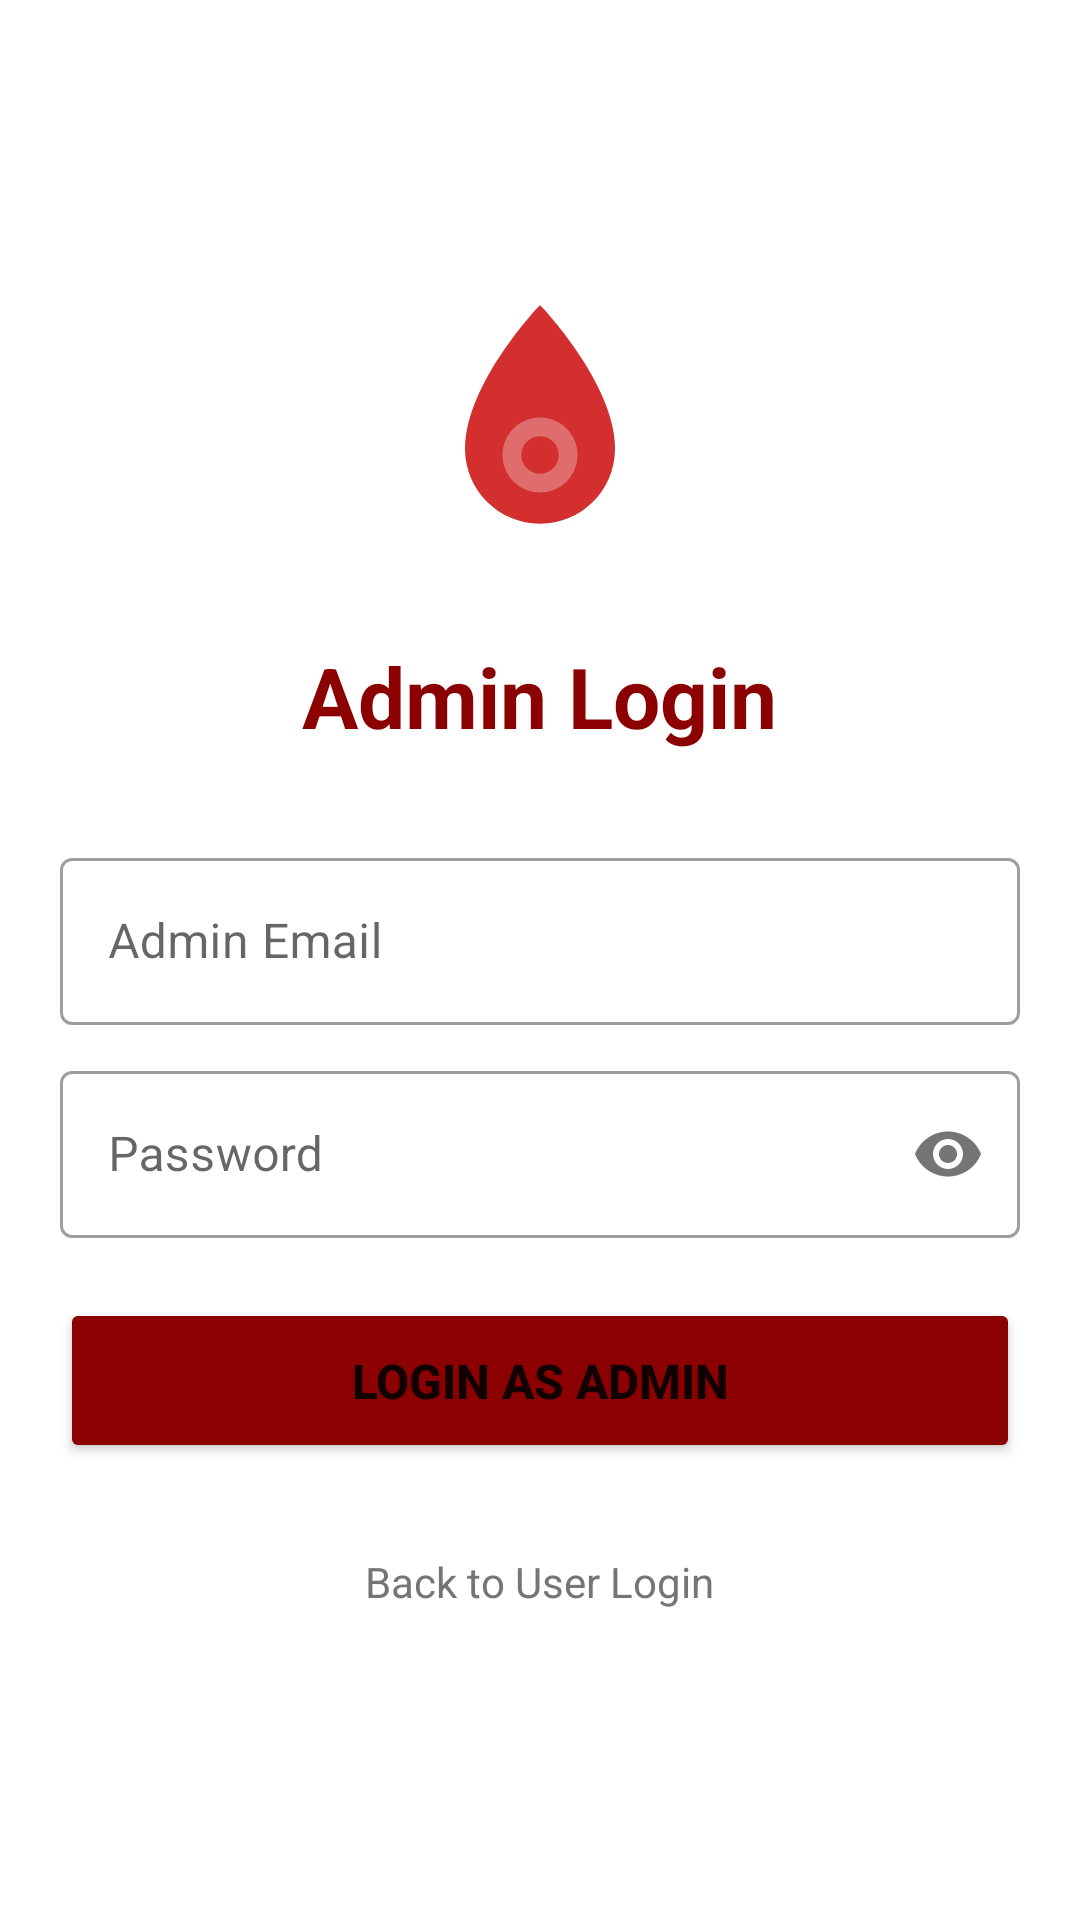

Screen size 1080w x 1920h. Icon name, then its center in pixels as (x=x, y=y):
blood drop: (x=540, y=414)
